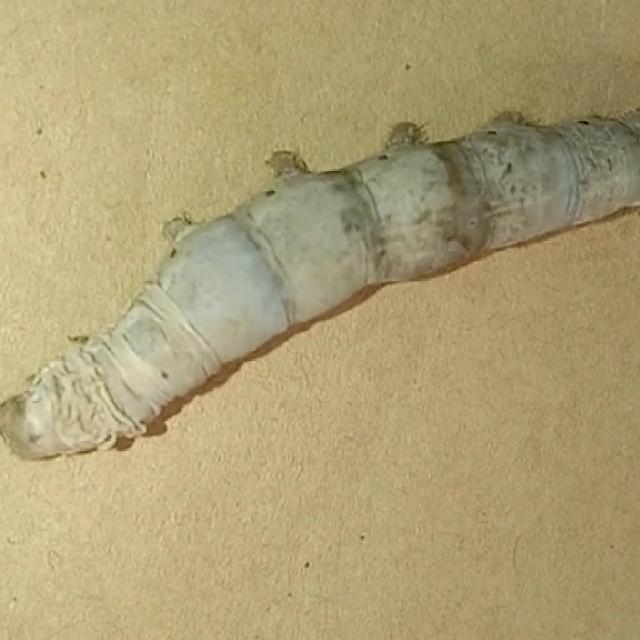Grasserie: (3, 82, 640, 514)
